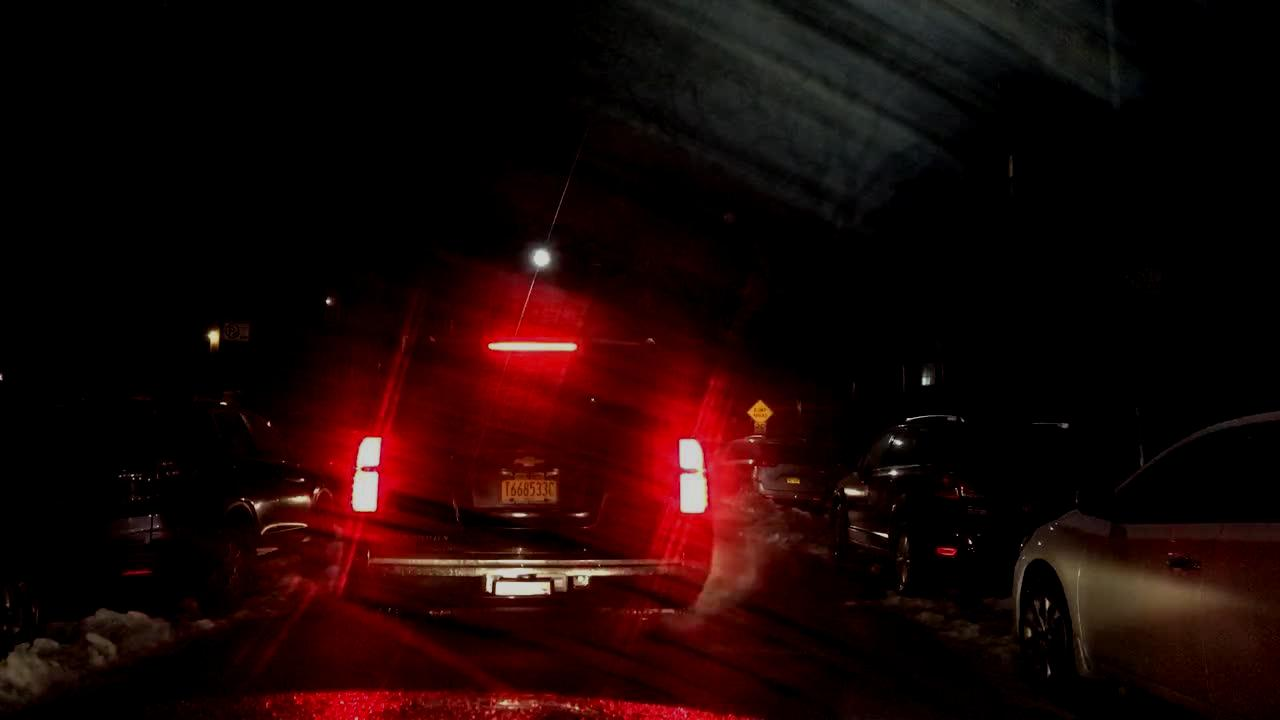chevrolet: (508, 448, 550, 472)
